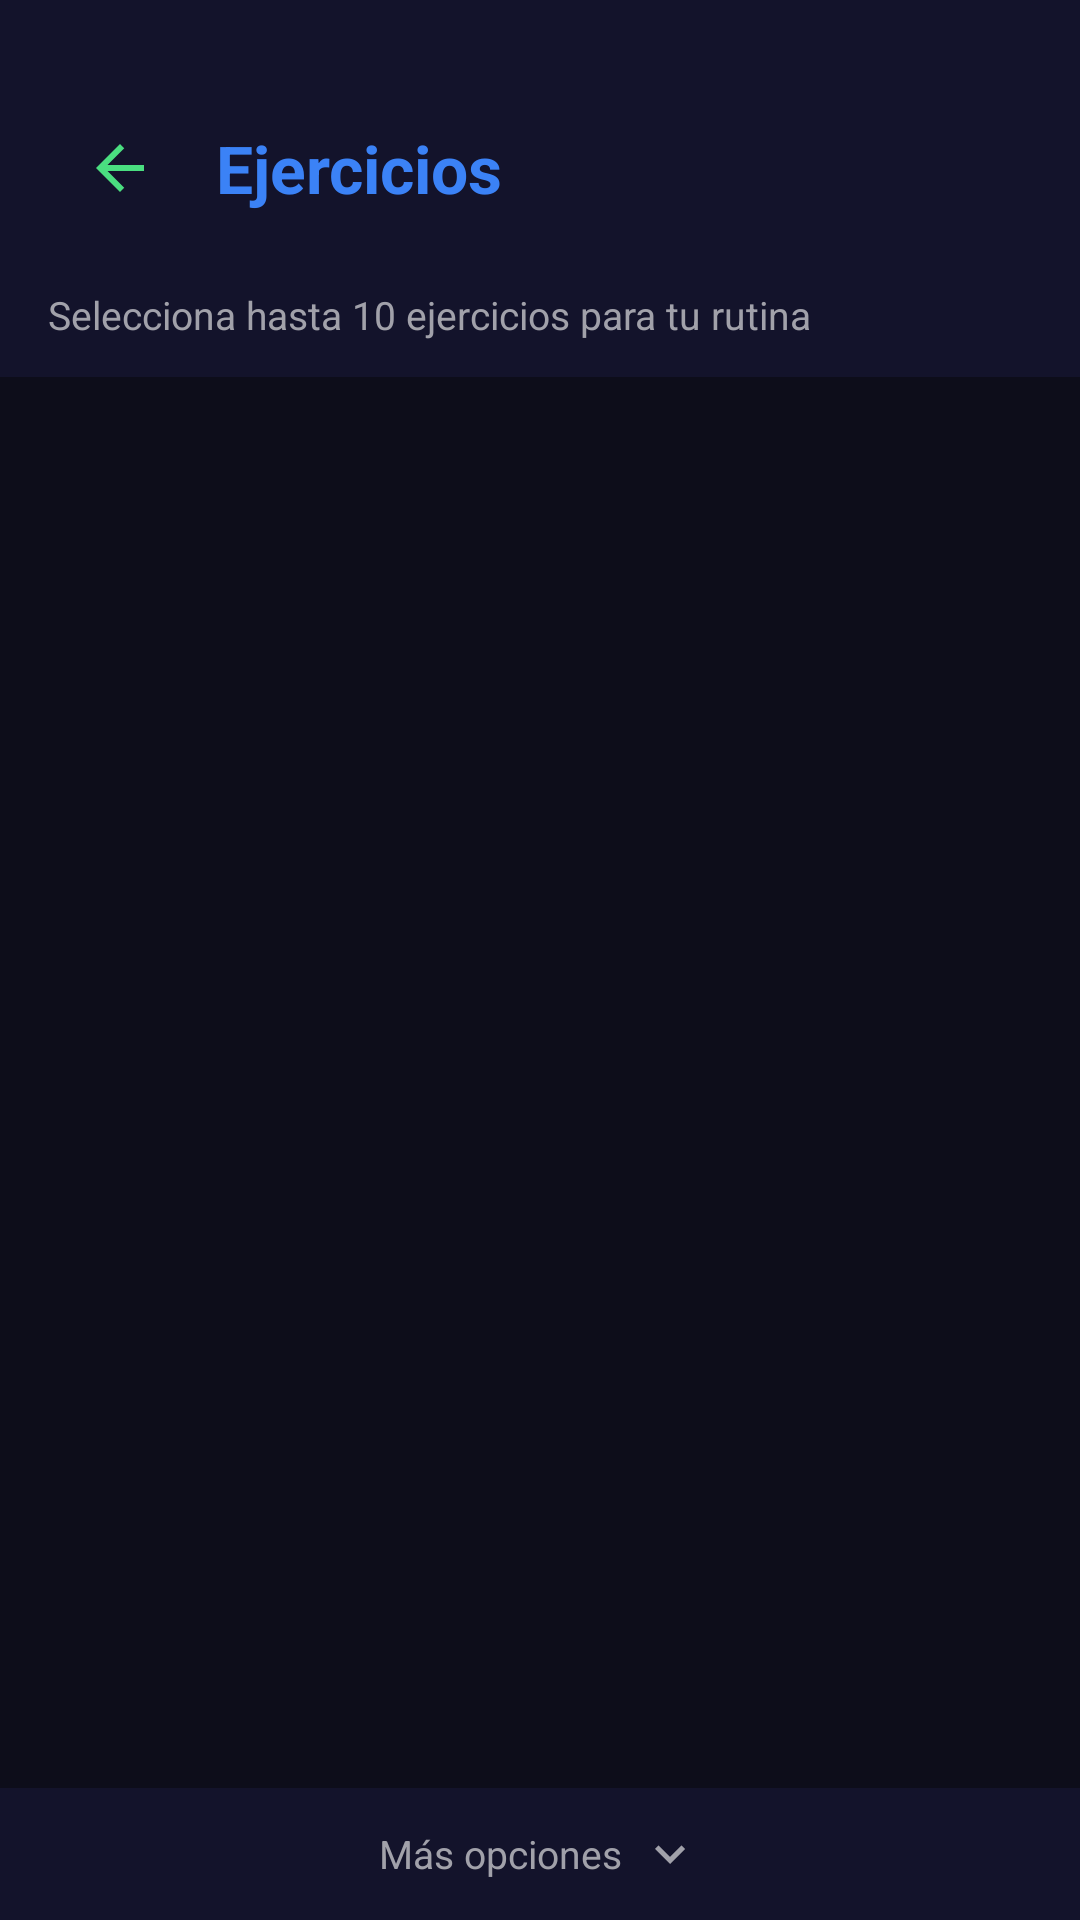

Locate icon controls on the screen. Image size 1080×1920, boxes as (x1, y1, x2, y2).
Expandir: (655, 1845, 685, 1864)
Volver atrás: (96, 144, 144, 192)
